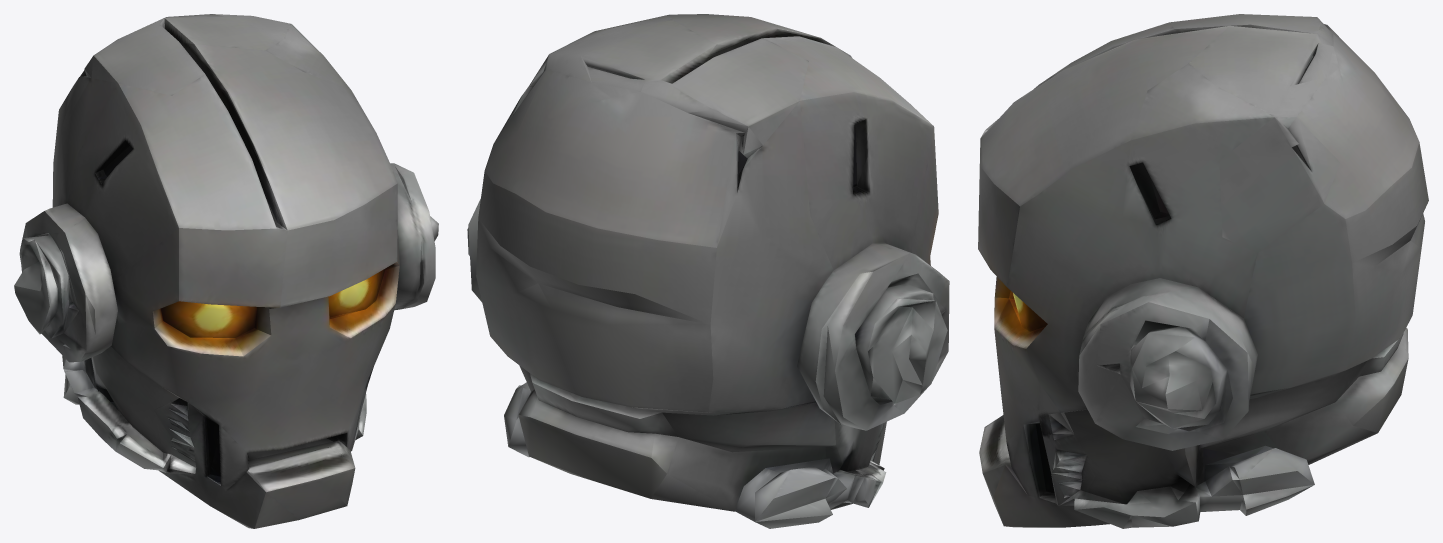
File: robotHeadDome.glb
3 renders of one model, left to right at view 1: azimuth 30°, elevation 25°; view 2: azimuth 150°, elevation 25°; view 3: azimuth 270°, elevation 25°, orthographic. The views are drawn at different scales.
Parts seen in each view (by area): view 1: model; view 2: model; view 3: model.
Part boxes in pixels (x1,y1,x2,y2): model: (14, 14, 438, 528); model: (467, 14, 949, 528); model: (978, 14, 1428, 528).
Bounding box in the file's own units: 1.91 × 1.9 × 1.64.
1 material, 1 textured.
